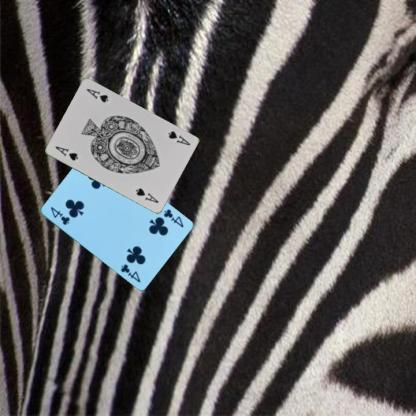4c: (161, 206, 184, 229), (47, 204, 71, 226)
As: (53, 143, 79, 162), (165, 128, 191, 147)
